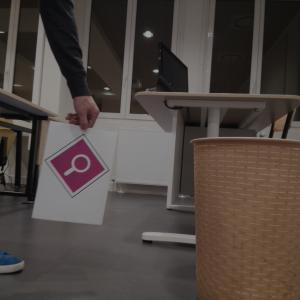search: (46, 135, 109, 197)
